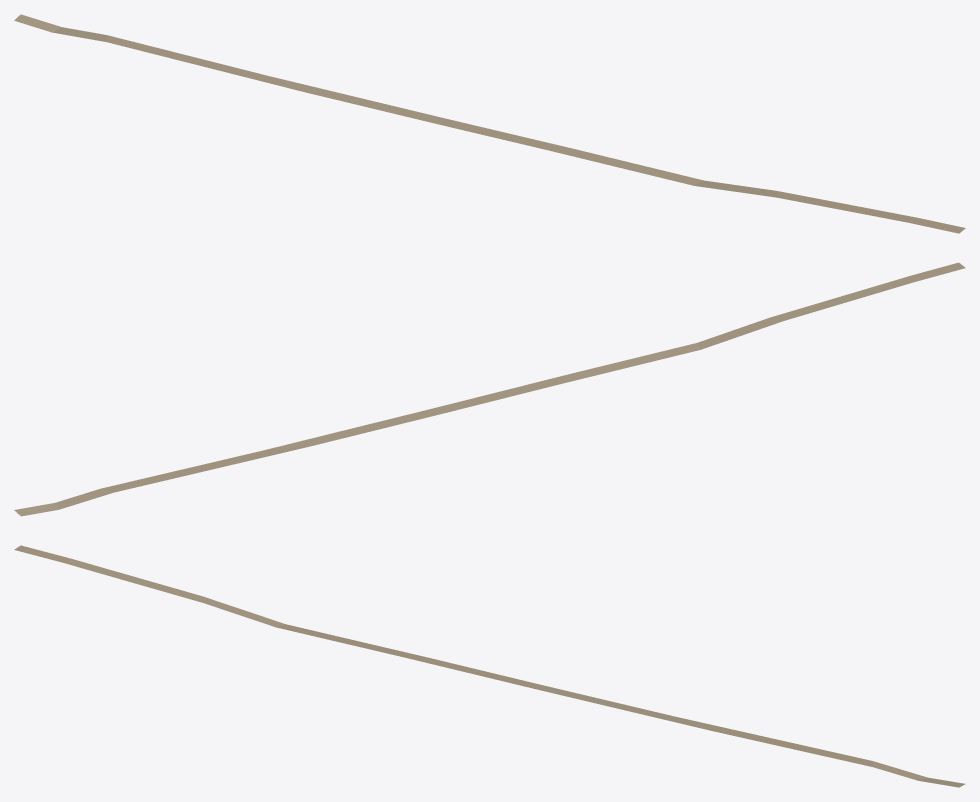
Rendered from farm_-30_-24_track.glb.
3 renders of one model, top to bottom at view 1: azimuth 90°, elevation 25°; view 2: azimuth 150°, elevation 25°; view 3: azimuth 270°, elevation 25°, orthographic.
Visible parts, largest first — view 1: geometry_0; view 2: geometry_0; view 3: geometry_0.
Part boxes in pixels (<box>): geometry_0: <box>14,14,965,233</box>; geometry_0: <box>14,262,965,516</box>; geometry_0: <box>14,545,965,787</box>.
Bounding box in the file's own units: 130 × 4.24 × 227.
